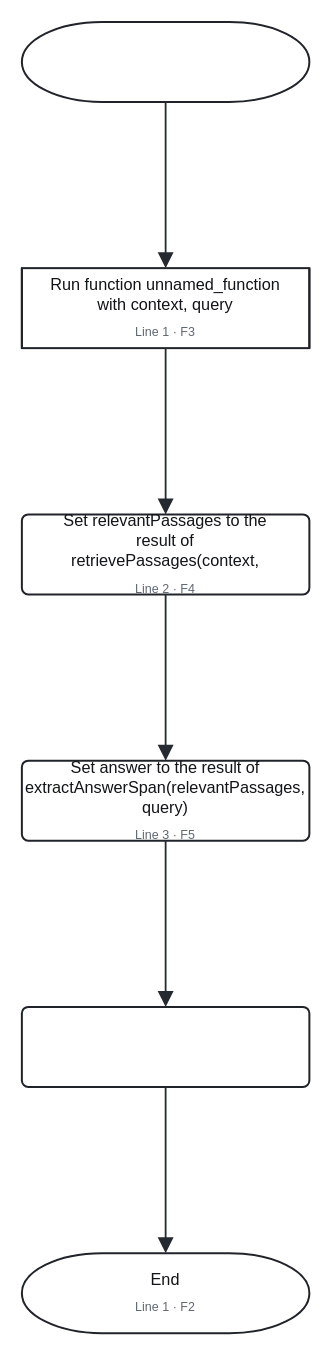
Some shapes in this 333 by 1356 pixel diagram are drawn without their labels. Here are the shapes that lost their labels. From the top down, the centre of each, then its label:
[165,61]: Start Line 1 · F1
[165,1046]: Return answer Line 5 · F6
